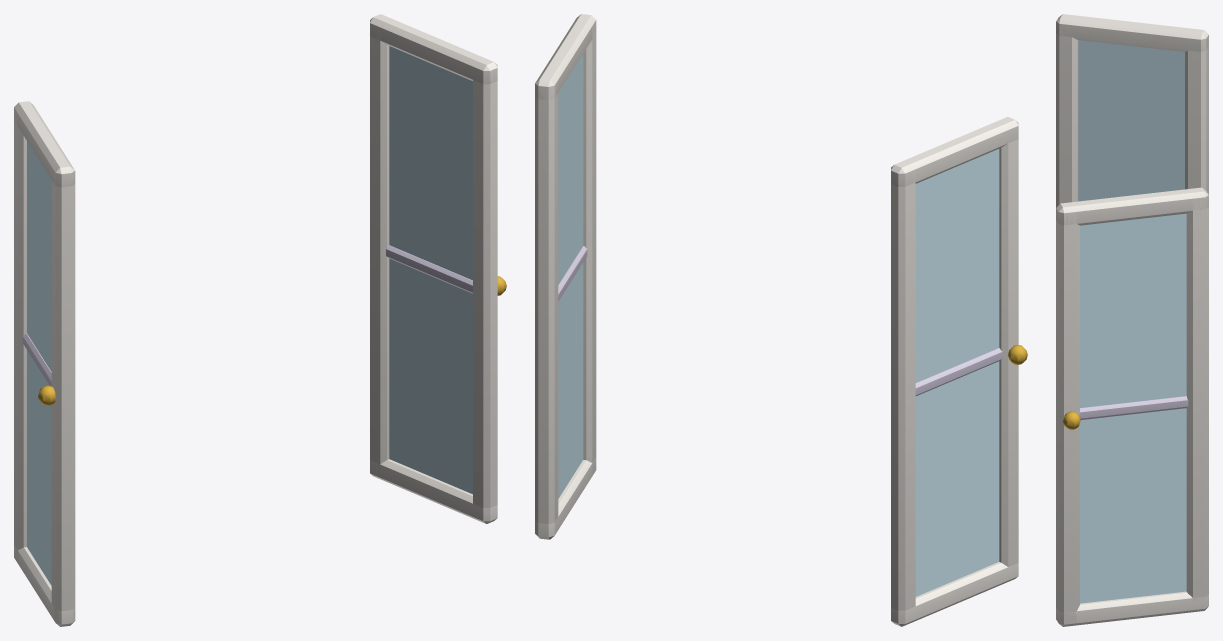
The model's file is folhas-colorido.glb.
3 renders of one model, left to right at view 1: azimuth 30°, elevation 25°; view 2: azimuth 150°, elevation 25°; view 3: azimuth 270°, elevation 25°, orthographic. The views are drawn at different scales.
Visible parts, largest first — view 1: folha-dir-vidro, folha-dir-moldura, folha-esq-moldura, folha-esq-vidro; view 2: folha-esq-vidro, folha-esq-moldura, folha-dir-moldura, folha-dir-vidro; view 3: folha-dir-vidro, folha-dir-moldura, folha-esq-vidro, folha-esq-moldura.
Part boxes in pixels (x1,y1,x2,y2): folha-dir-vidro: [389, 46, 472, 494]; folha-dir-moldura: [370, 14, 506, 523]; folha-esq-moldura: [14, 101, 75, 626]; folha-esq-vidro: [27, 141, 51, 585]; folha-esq-vidro: [915, 149, 999, 596]; folha-esq-moldura: [891, 117, 1027, 626]; folha-dir-moldura: [535, 14, 596, 539]; folha-dir-vidro: [558, 54, 583, 498]; folha-dir-vidro: [1080, 213, 1186, 603]; folha-dir-moldura: [1056, 187, 1208, 626]; folha-esq-vidro: [1078, 40, 1184, 201]; folha-esq-moldura: [1056, 14, 1208, 207].
Bounding box in the file's own units: 1.33 × 1.25 × 0.4124.
